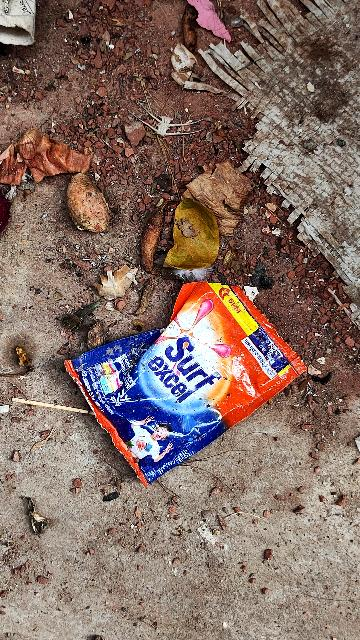packet: (54, 250, 315, 492)
